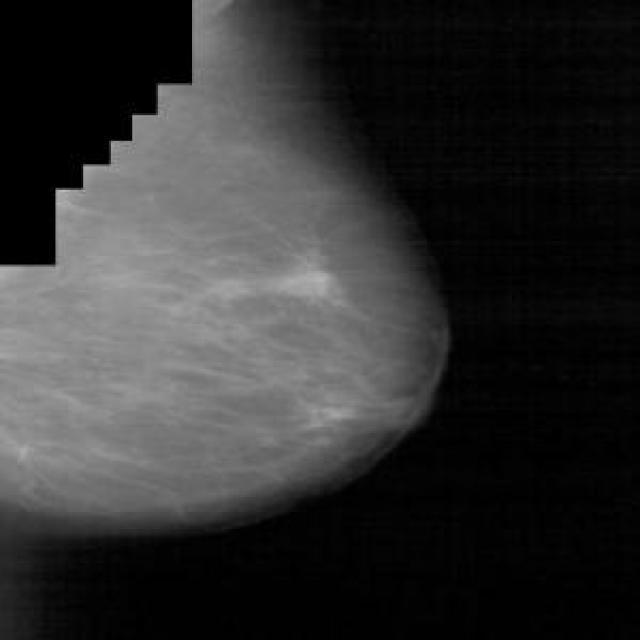tumor: (229, 243, 383, 320)
